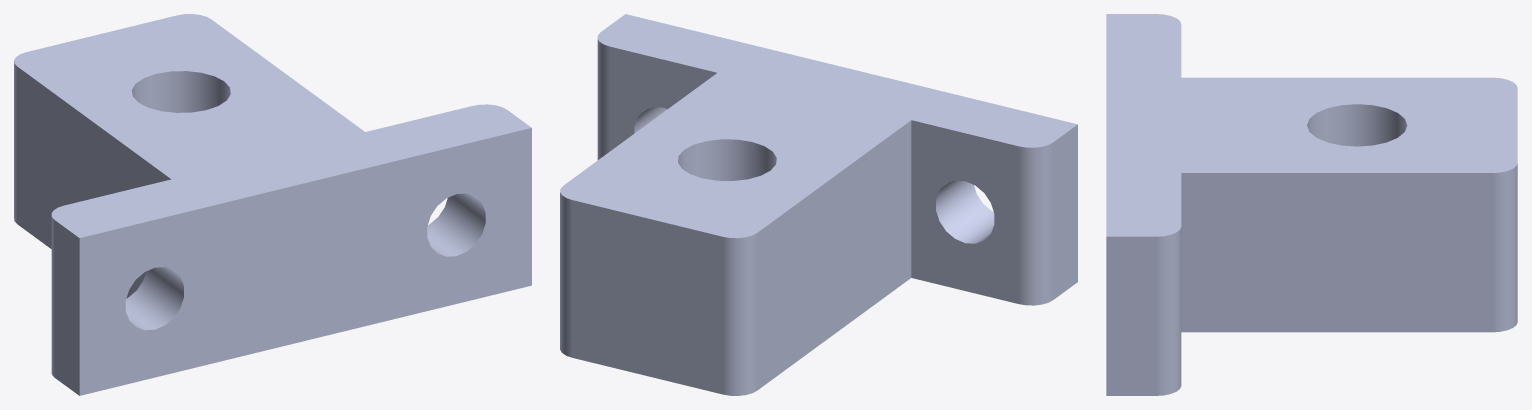
3 renders of one model, left to right at view 1: azimuth 30°, elevation 25°; view 2: azimuth 150°, elevation 25°; view 3: azimuth 270°, elevation 25°, orthographic.
Visible parts, largest first — view 1: stitch_result_stitch all; view 2: stitch_result_stitch all; view 3: stitch_result_stitch all.
Boxes of the visible parts, <box> form: stitch_result_stitch all: <box>14,14,531,395</box>; stitch_result_stitch all: <box>560,14,1077,395</box>; stitch_result_stitch all: <box>1106,14,1517,395</box>.
Bounding box in the file's own units: 1.65 × 0.5512 × 1.29.
